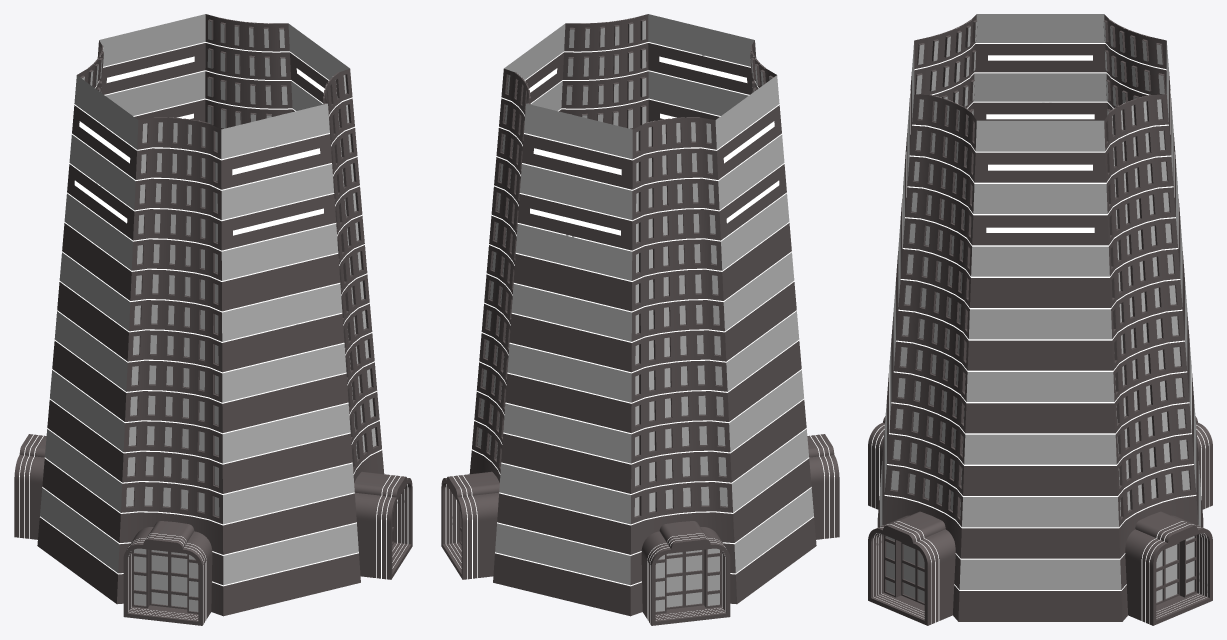
Rendered from tongdao.fbx.
The picture shows the model from 3 angles, left to right: view 1: azimuth 30°, elevation 25°; view 2: azimuth 150°, elevation 25°; view 3: azimuth 270°, elevation 25°; orthographic projection. The views are drawn at different scales.
Parts seen in each view (by area): view 1: S1 WALLS MAT, S1 windows mat, S1 NEON MAT; view 2: S1 WALLS MAT, S1 windows mat, S1 NEON MAT; view 3: S1 WALLS MAT, S1 windows mat, S1 NEON MAT.
Boxes of the visible parts, box(x1,y1,x2,y2) form: S1 WALLS MAT: box(14, 14, 412, 625); S1 windows mat: box(40, 14, 376, 585); S1 NEON MAT: box(19, 23, 408, 623); S1 WALLS MAT: box(441, 14, 839, 625); S1 windows mat: box(477, 14, 813, 585); S1 NEON MAT: box(445, 42, 834, 623); S1 WALLS MAT: box(868, 14, 1212, 625); S1 windows mat: box(880, 14, 1200, 589); S1 NEON MAT: box(871, 27, 1209, 623).
Size of the model in its own units: 162 by 253 by 162.
